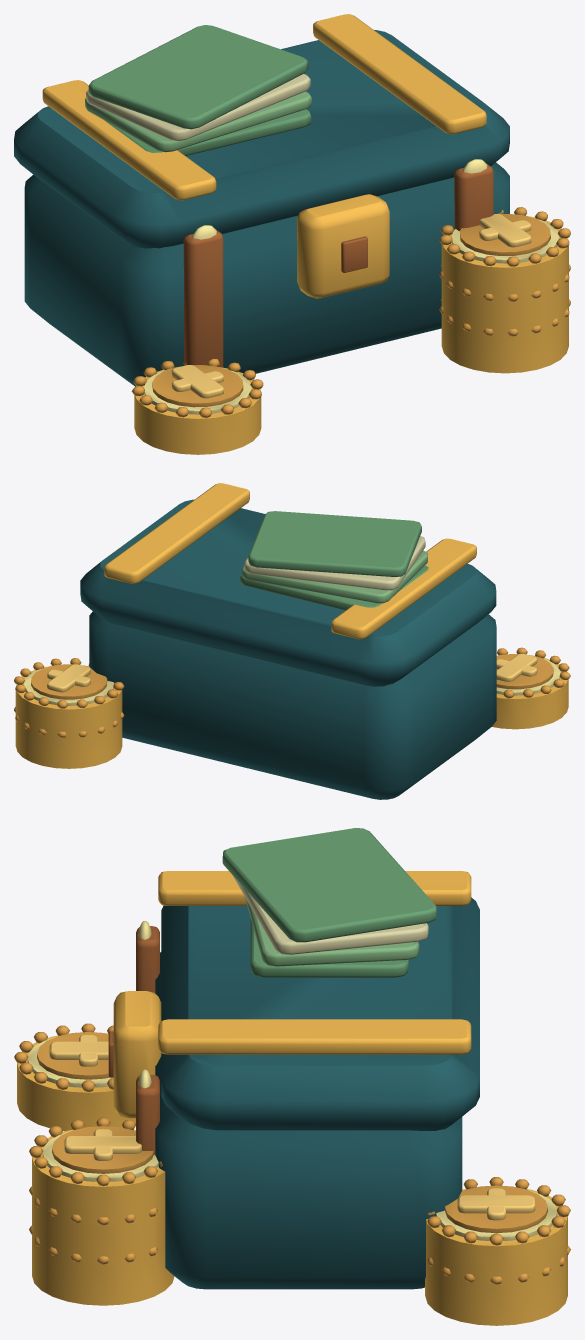
File: treasury.glb
The picture shows the model from 3 angles, top to bottom: view 1: azimuth 30°, elevation 25°; view 2: azimuth 150°, elevation 25°; view 3: azimuth 270°, elevation 25°; orthographic projection. The views are drawn at different scales.
Visible parts, largest first — view 1: treasury; view 2: treasury; view 3: treasury.
Boxes of the visible parts, x1,y1,x2,y2 form: treasury: [14, 14, 570, 454]; treasury: [14, 483, 570, 799]; treasury: [14, 828, 570, 1325].
Size of the model in its own units: 2.03 by 1.05 by 1.87.
